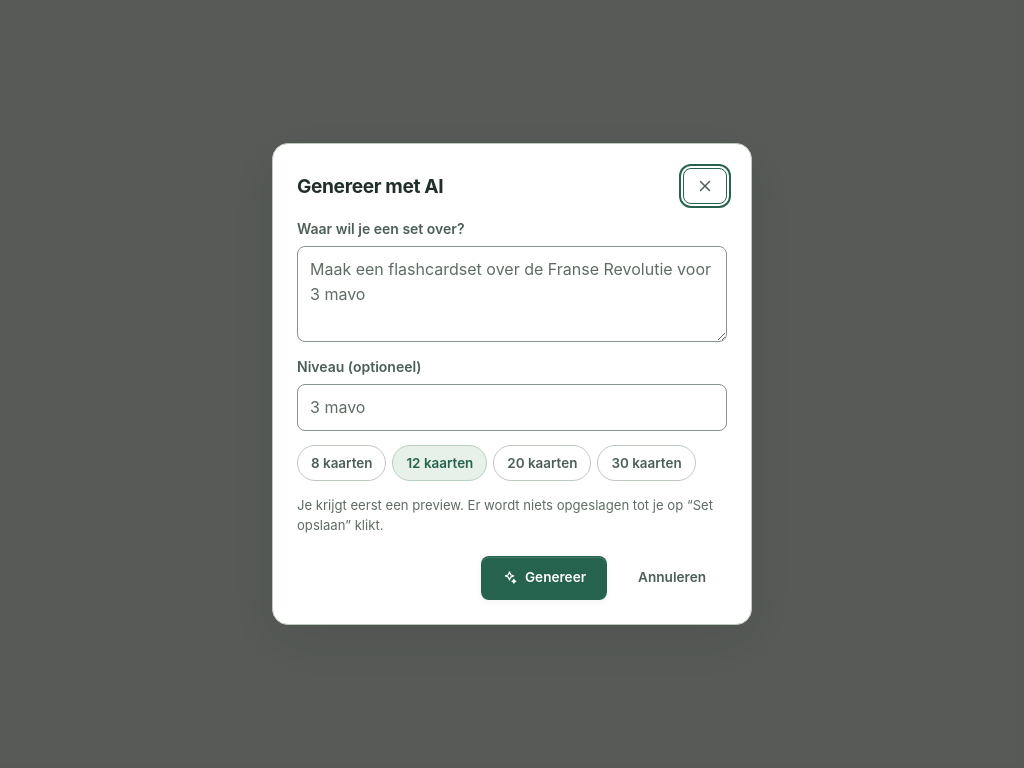
Test case: AiGenerateSetModal › shows a friendly error when generation fails
The image size is (1024, 768).
In the text box with placeholder "Maak een flashcardset over de Franse Revolutie voor 3 mavo": (512, 294) [297,246,727,342], type "Franse Revolutie"
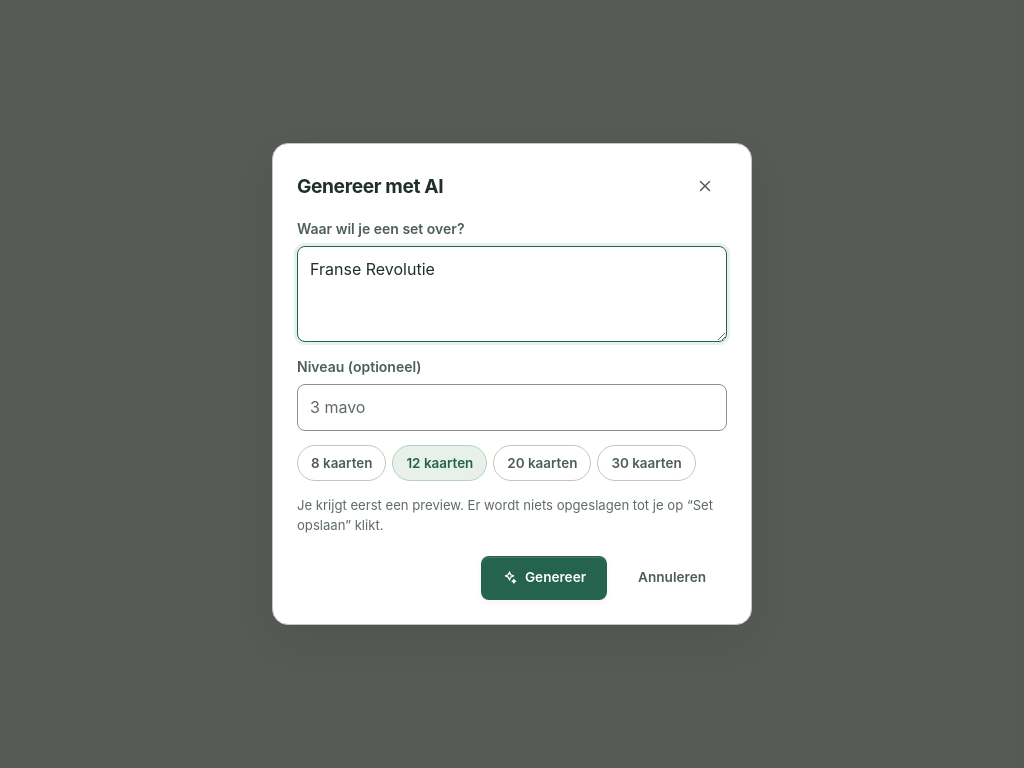
Click the button "Genereer": (544, 578) [481,556,607,600]
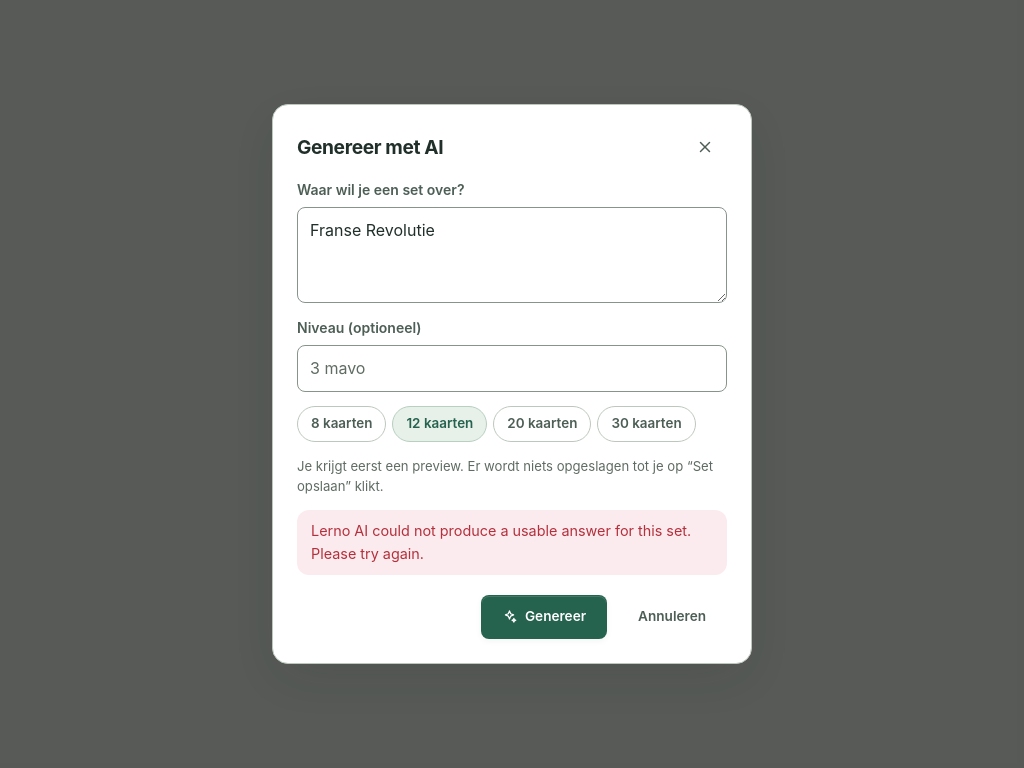
Expected: the message shows "could not produce a usable answer", [311,522,691,562]
